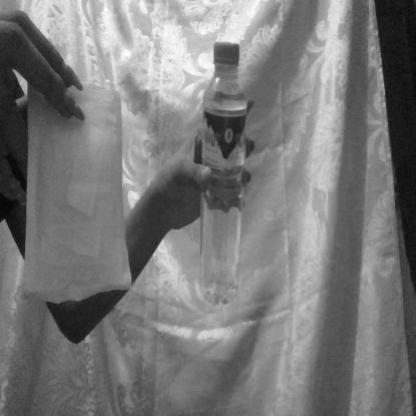Plastic Bottle: (185, 16, 262, 376)
